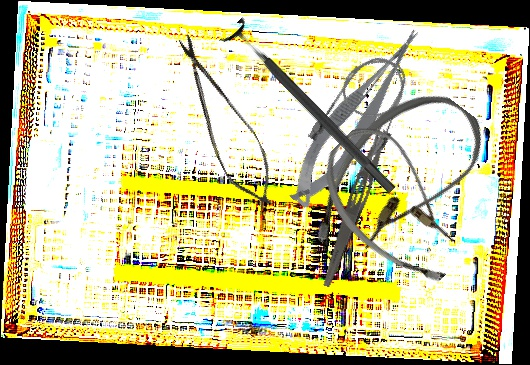Cannula: (296, 69, 498, 289), (301, 112, 490, 300), (302, 43, 426, 182)
Dressing Forceps: (319, 113, 397, 291)
Fixation Ring: (217, 15, 406, 204)
Micro Scissor: (272, 22, 444, 214), (160, 25, 289, 220)
